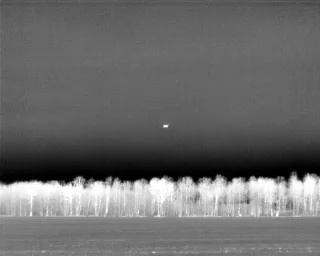DRONE: (160, 119, 173, 132)
